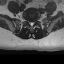CCS_stenosis: (30, 19, 32, 27)
LFS_severe_stenosis: (34, 18, 37, 24)
LLS_normal: (32, 19, 34, 26)
RFS_severe_stenosis: (26, 18, 28, 25)
RLS_normal: (28, 19, 30, 26)
